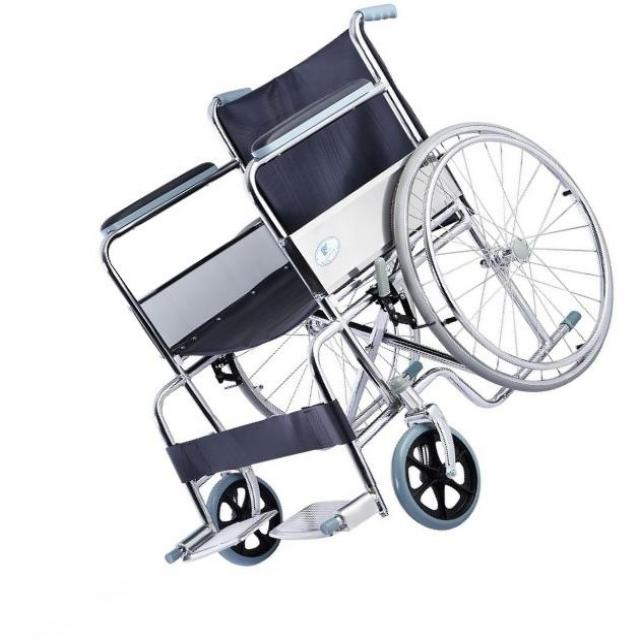wheelchair: (89, 0, 618, 569)
